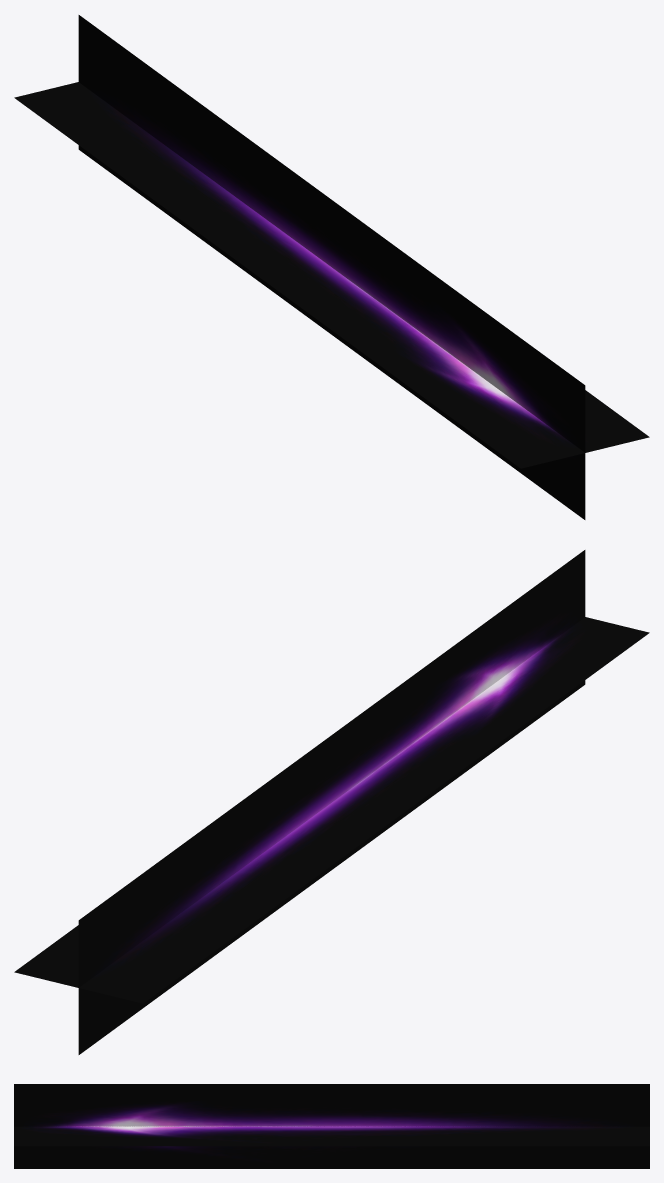
File: Effect_1101skill01.fbx
3 views of the same model, one above another, from view 1: azimuth 30°, elevation 25°; view 2: azimuth 150°, elevation 25°; view 3: azimuth 270°, elevation 25° (orthographic). The views are drawn at different scales.
Visible parts, largest first — view 1: Effect_1101skill001; view 2: Effect_1101skill001; view 3: Effect_1101skill001.
Part boxes in pixels (x1,y1,x2,y2): Effect_1101skill001: (14,15,649,519); Effect_1101skill001: (14,550,649,1054); Effect_1101skill001: (14,1084,649,1168).
Size of the model in its own units: 1.75 by 1.75 by 11.9.
Materials: 1 (1 with a texture image).
